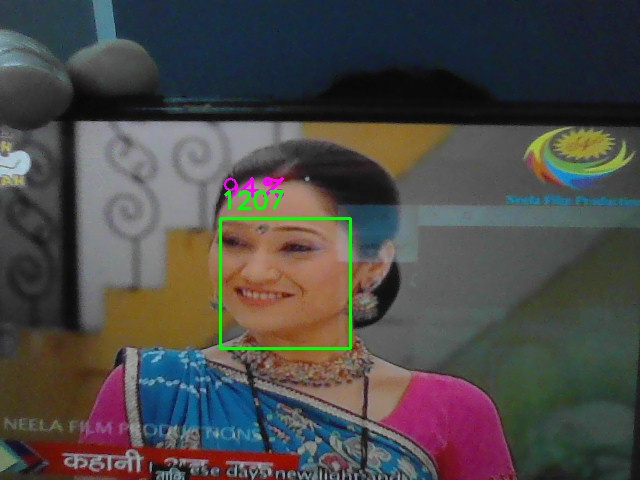fake: (220, 218, 351, 349)
